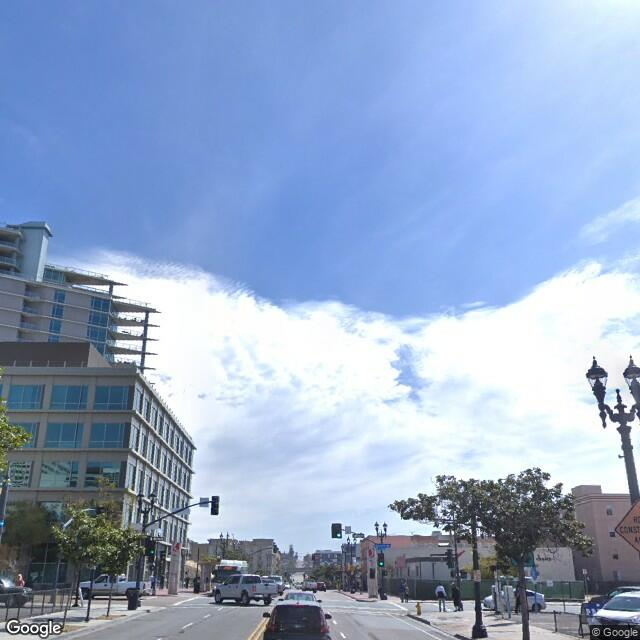light: (588, 358, 608, 401), (621, 356, 640, 393)
window: (104, 416, 123, 450), (86, 459, 102, 491), (59, 422, 73, 450)
